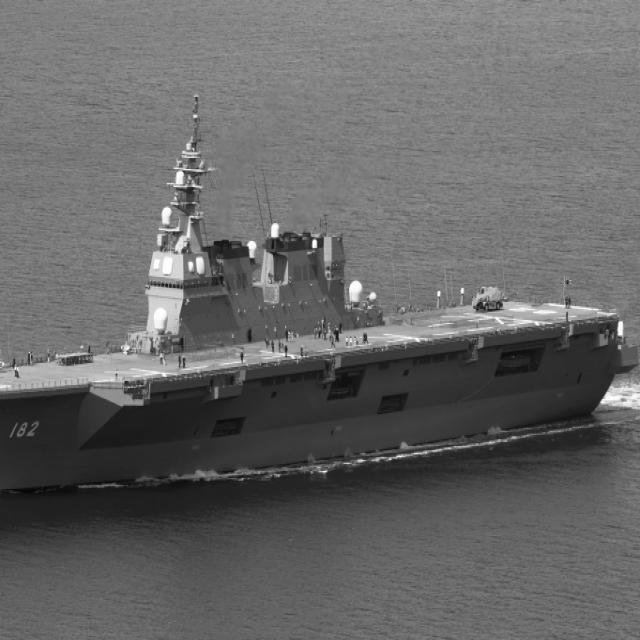Portanaves: (1, 93, 640, 506)
